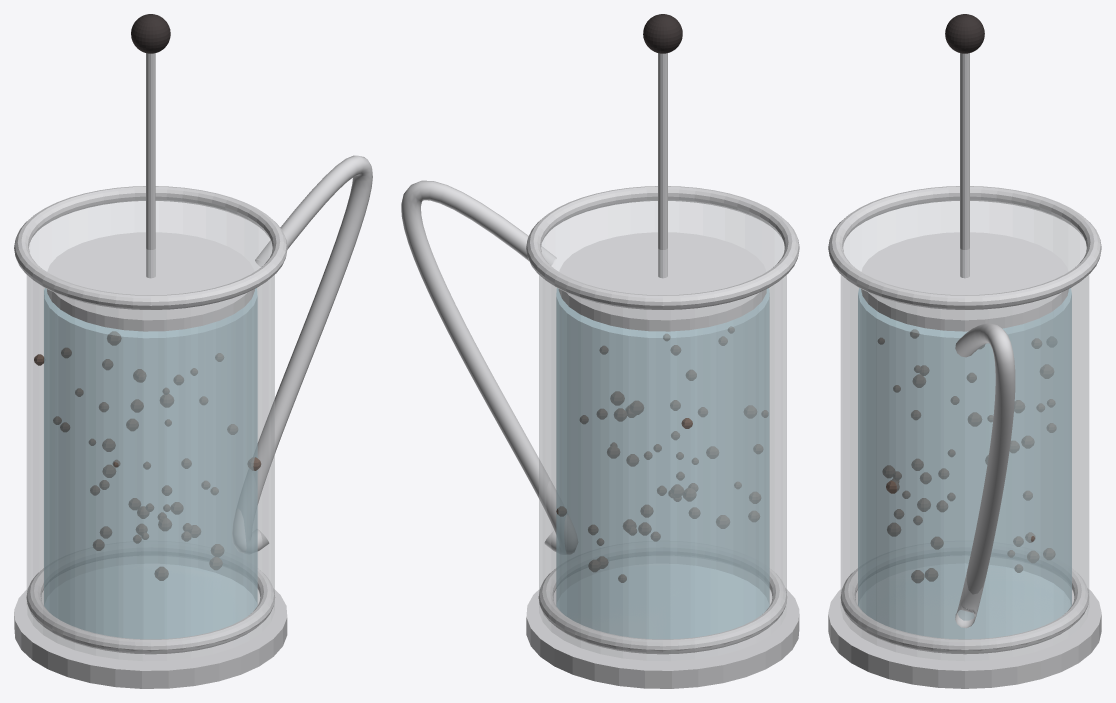
Rendered from french-press.glb.
3 views of the same model, side by side, from view 1: azimuth 30°, elevation 25°; view 2: azimuth 150°, elevation 25°; view 3: azimuth 270°, elevation 25° (orthographic).
Parts seen in each view (by area): view 1: Carafe, Liquid, Filter, Base, Handle, TopRing, BottomRing, Rod, Knob; view 2: Carafe, Liquid, Filter, Base, Handle, TopRing, BottomRing, Rod, Knob; view 3: Carafe, Liquid, Filter, Base, TopRing, Handle, BottomRing, Rod, Knob.
Boxes of the visible parts, left/top/right/bottom form: Carafe: left=26, top=197, right=274, bottom=661; Liquid: left=44, top=288, right=257, bottom=639; Filter: left=47, top=232, right=254, bottom=331; Base: left=14, top=588, right=287, bottom=688; Handle: left=232, top=155, right=372, bottom=552; TopRing: left=14, top=186, right=287, bottom=309; BottomRing: left=26, top=568, right=275, bottom=654; Rod: left=146, top=53, right=155, bottom=278; Knob: left=131, top=14, right=170, bottom=53; Carafe: left=539, top=197, right=786, bottom=661; Liquid: left=556, top=288, right=769, bottom=639; Filter: left=558, top=232, right=766, bottom=331; Base: left=526, top=588, right=799, bottom=688; Handle: left=401, top=180, right=577, bottom=554; TopRing: left=526, top=186, right=799, bottom=309; BottomRing: left=538, top=568, right=787, bottom=654; Rod: left=658, top=53, right=667, bottom=278; Knob: left=643, top=14, right=682, bottom=53; Carafe: left=840, top=197, right=1089, bottom=661; Liquid: left=858, top=288, right=1071, bottom=639; Filter: left=861, top=232, right=1068, bottom=331; Base: left=828, top=589, right=1101, bottom=688; TopRing: left=828, top=186, right=1101, bottom=309; Handle: left=955, top=323, right=1015, bottom=628; BottomRing: left=840, top=568, right=1089, bottom=654; Rod: left=960, top=53, right=969, bottom=278; Knob: left=945, top=14, right=984, bottom=53.
Size of the model in its own units: 1.67 by 2.73 by 1.1.
